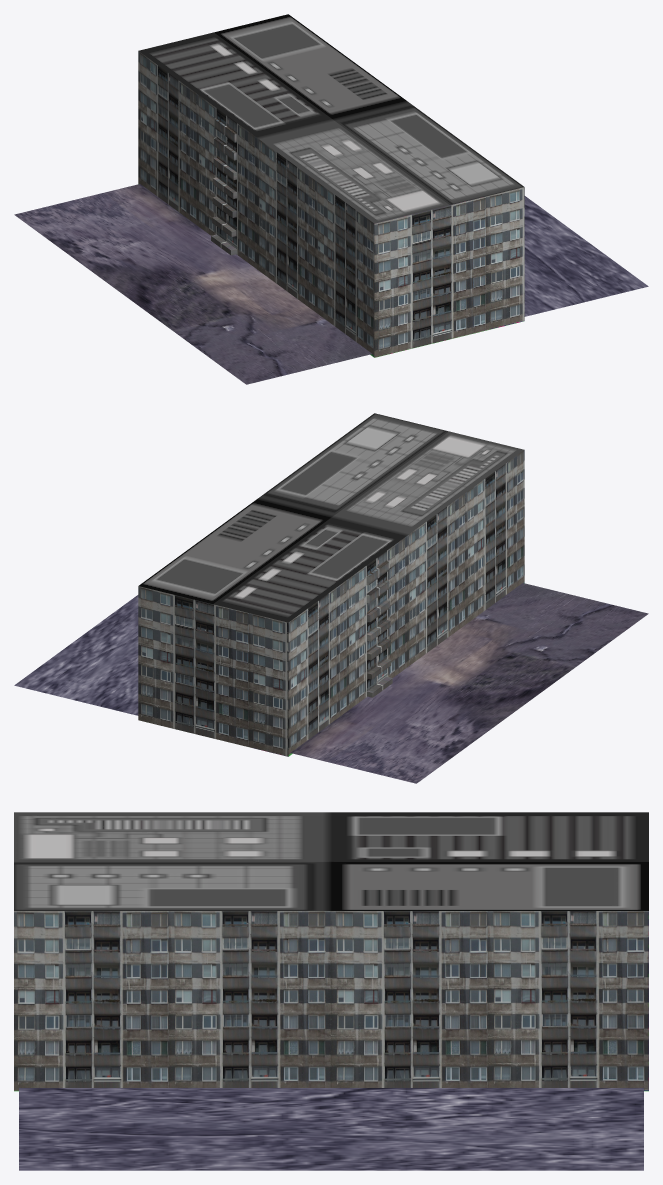
The model's file is city2.gltf.
The picture shows the model from 3 angles, top to bottom: view 1: azimuth 30°, elevation 25°; view 2: azimuth 150°, elevation 25°; view 3: azimuth 270°, elevation 25°; orthographic projection. The views are drawn at different scales.
Parts seen in each view (by area): view 1: Cube, Plane; view 2: Cube, Plane; view 3: Cube, Plane.
Part boxes in pixels (x1,y1,x2,y2): Cube: (138, 14, 524, 357); Plane: (14, 184, 648, 384); Cube: (138, 413, 524, 756); Plane: (14, 583, 648, 783); Cube: (14, 812, 648, 1091); Plane: (19, 1088, 643, 1170).
Bounding box in the file's own units: 100 × 31.86 × 102.
Materials: 1 (1 with a texture image).
